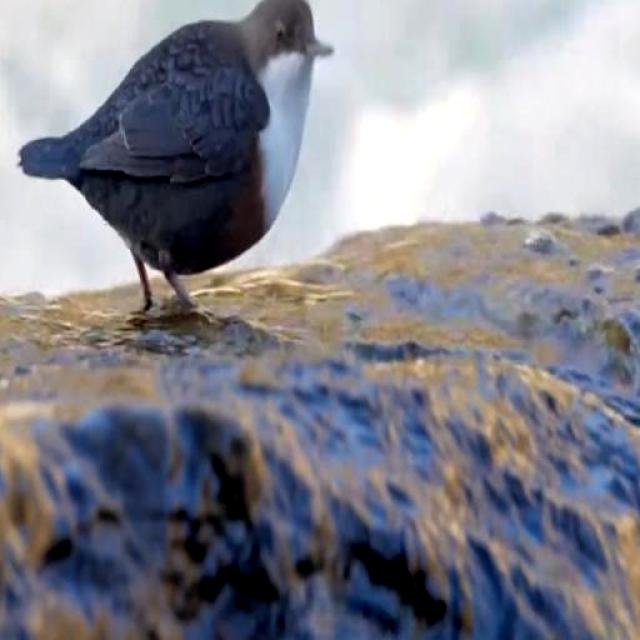airplane: (6, 0, 356, 321)
